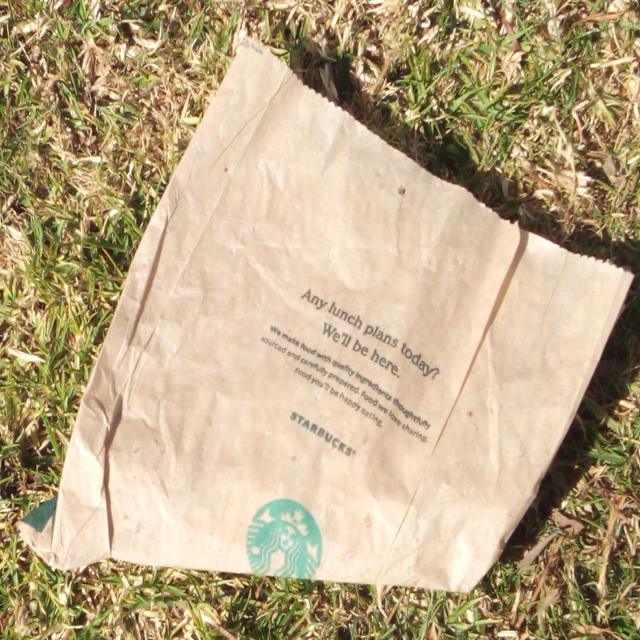litter: (14, 25, 640, 593)
